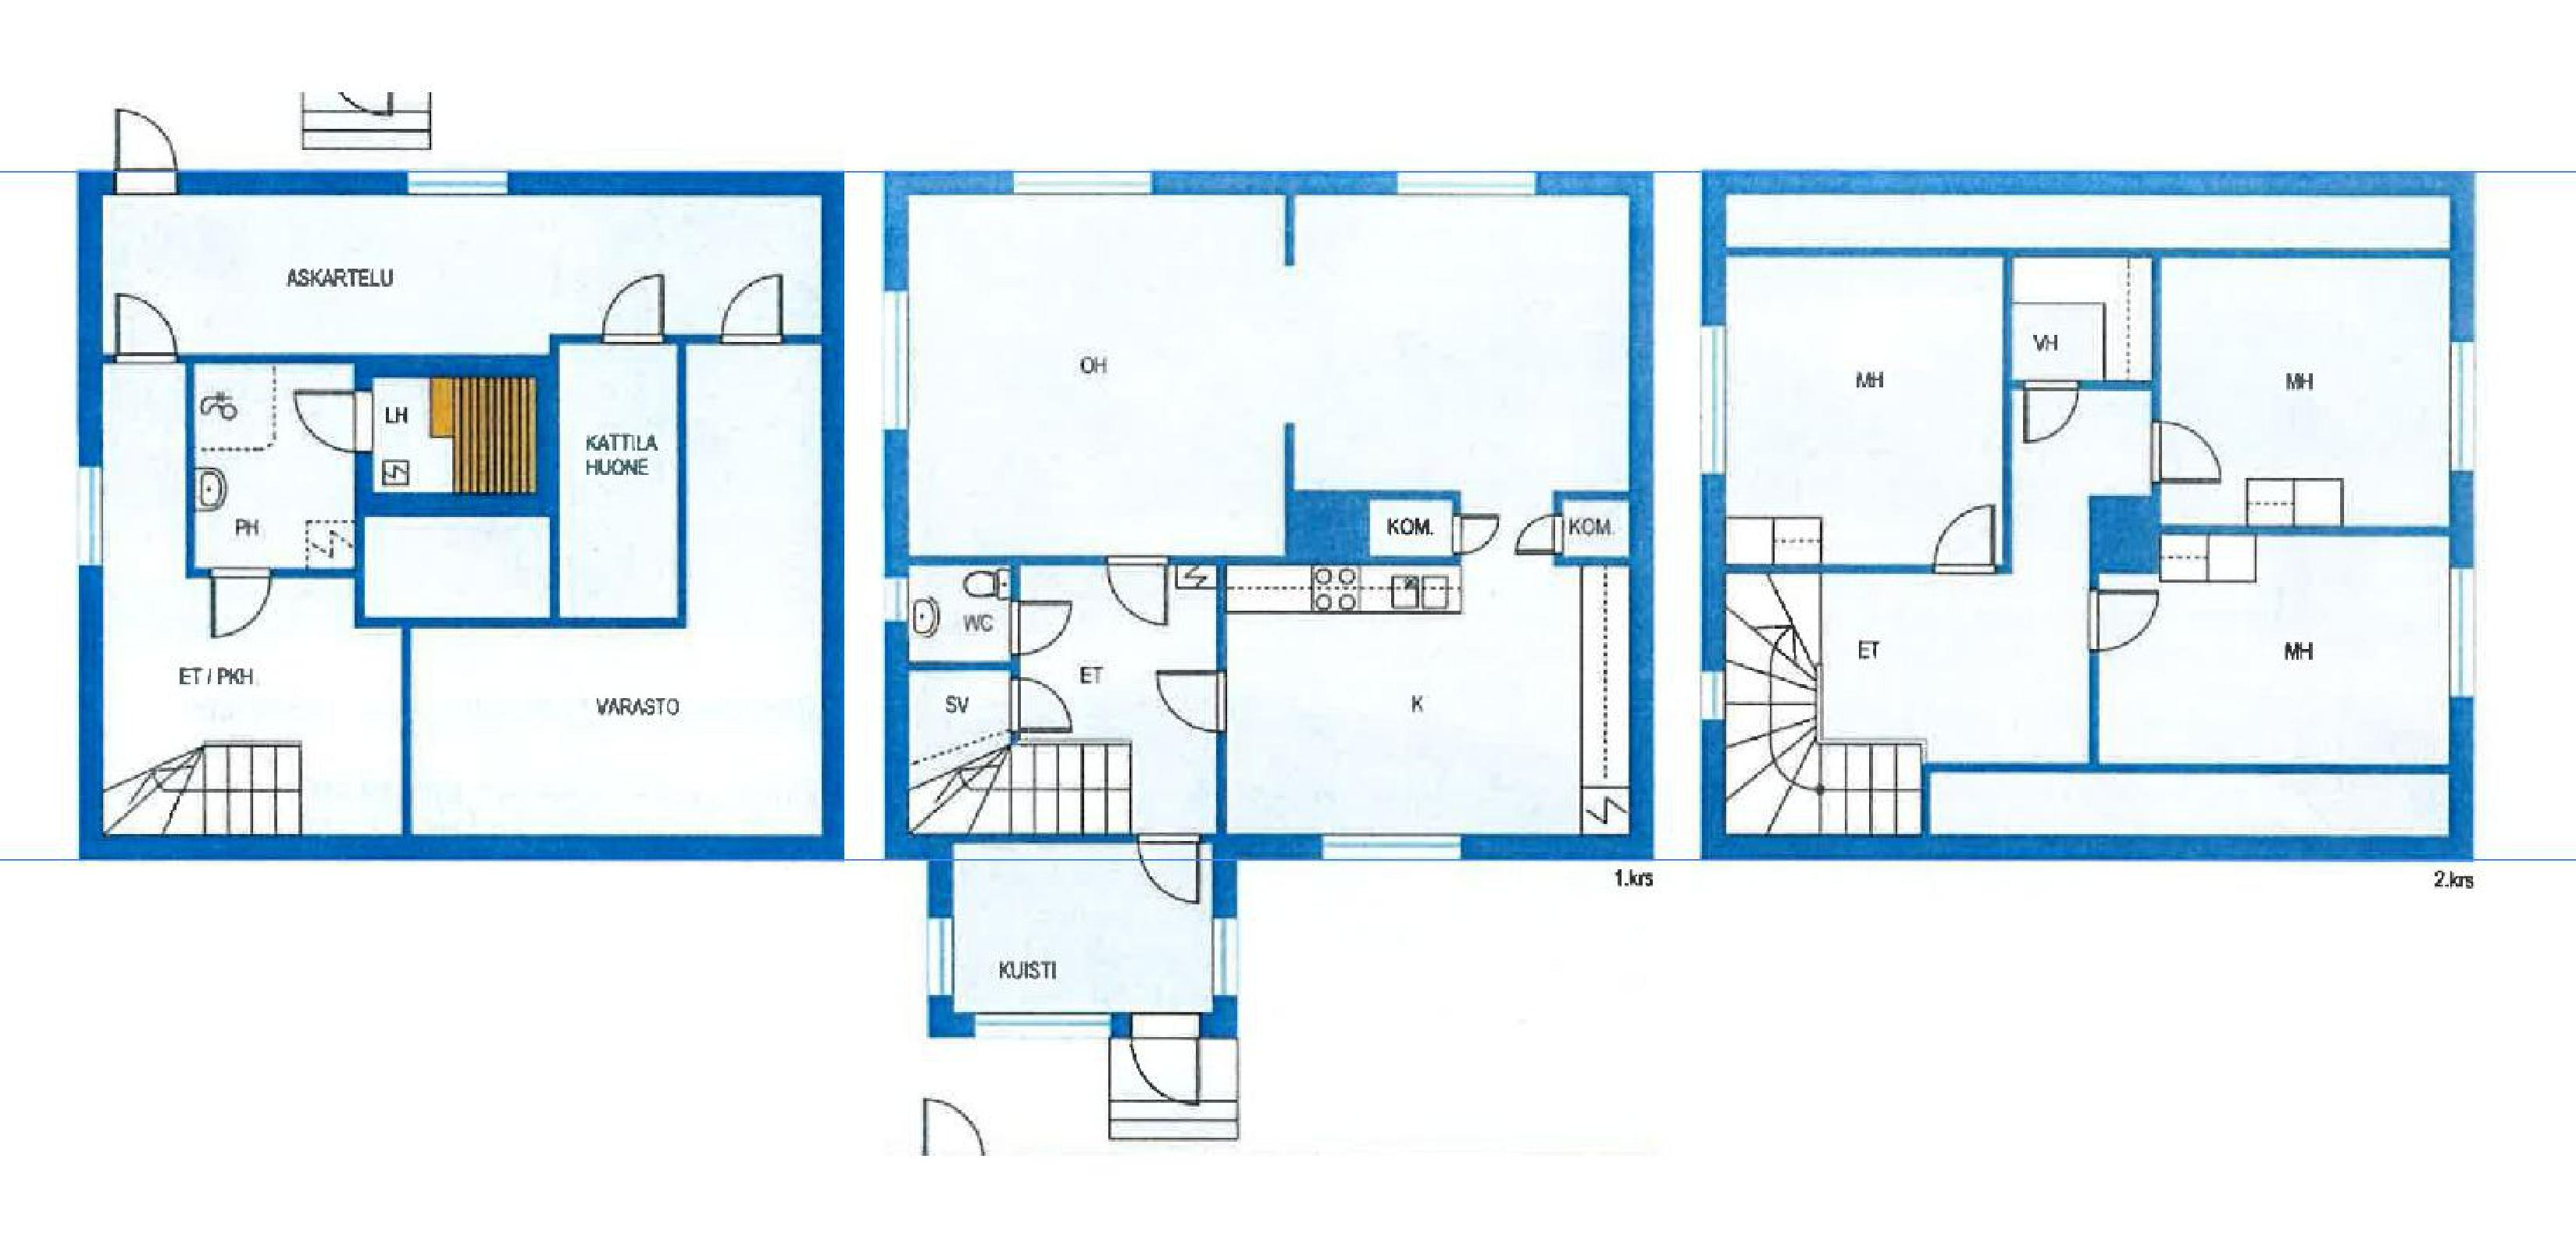door: (1125, 1012, 1221, 1118), (286, 388, 389, 466), (580, 268, 674, 353), (1142, 667, 1245, 744), (2149, 412, 2234, 498), (110, 108, 187, 192), (1104, 555, 1183, 634), (207, 560, 279, 645), (2077, 598, 2173, 660), (718, 268, 787, 353), (112, 291, 189, 366), (1134, 828, 1196, 911), (1932, 498, 1998, 576), (1007, 685, 1078, 749), (2016, 379, 2086, 442), (1007, 601, 1074, 662), (1510, 511, 1574, 571), (1449, 511, 1510, 560)
window: (1695, 320, 1728, 488), (1391, 167, 1544, 202), (2445, 560, 2476, 706), (974, 1010, 1122, 1039), (1321, 834, 1462, 864), (884, 286, 909, 432), (72, 465, 107, 562), (1009, 169, 1145, 192), (402, 169, 511, 197), (923, 921, 963, 997), (2449, 340, 2472, 466), (1214, 915, 1240, 992), (1702, 668, 1725, 719), (881, 575, 902, 624)
zone: (393, 346, 821, 839), (1730, 381, 2159, 837), (100, 350, 406, 837), (909, 189, 1288, 550), (1290, 190, 1623, 555), (104, 189, 825, 350), (1232, 560, 1626, 831), (2103, 529, 2461, 769), (1730, 255, 2006, 563), (904, 563, 1216, 831), (2162, 256, 2446, 525), (1727, 189, 2449, 246), (961, 846, 1216, 1008), (562, 348, 683, 616), (1925, 772, 2446, 834), (195, 365, 353, 570), (360, 514, 550, 626), (2014, 250, 2149, 379), (381, 379, 526, 488), (913, 562, 1017, 665)
